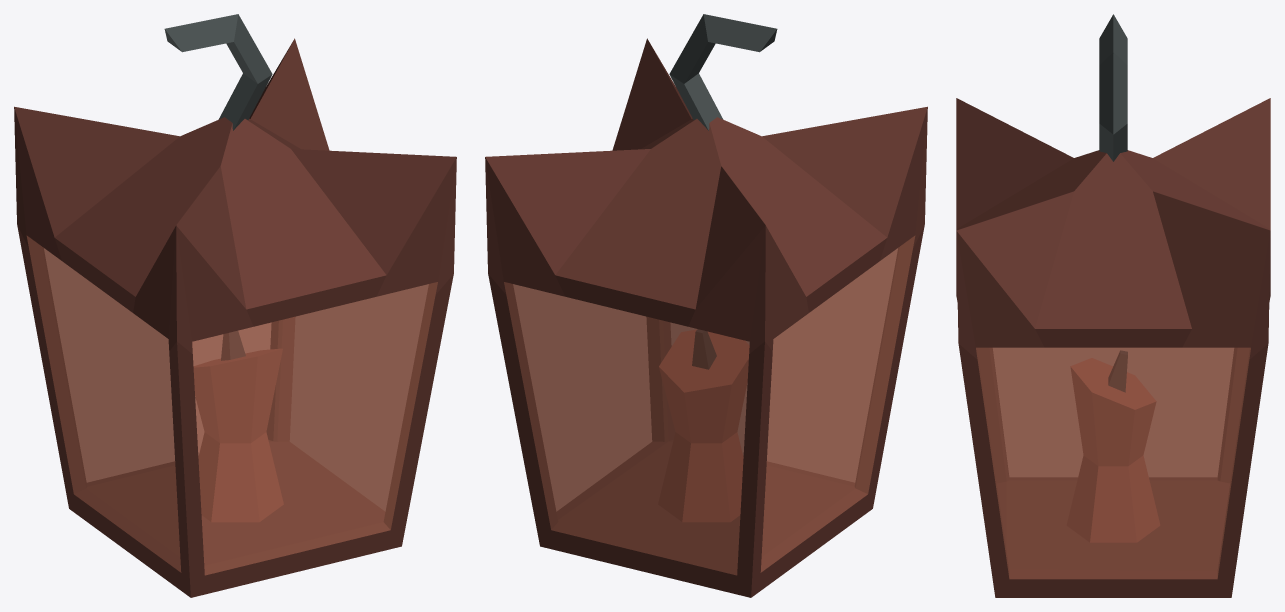
The model's file is Lamp_3_Red.fbx.
The picture shows the model from 3 angles, left to right: view 1: azimuth 30°, elevation 25°; view 2: azimuth 150°, elevation 25°; view 3: azimuth 270°, elevation 25°; orthographic projection. The views are drawn at different scales.
Visible parts, largest first — view 1: Lamp_3_Red_Part_1, Lamp_3_Red_Part_2, Lamp_3_Red_Part_3, Lamp_3_Red_Part_5; view 2: Lamp_3_Red_Part_1, Lamp_3_Red_Part_2, Lamp_3_Red_Part_3, Lamp_3_Red_Part_5, Lamp_3_Red_Part_4; view 3: Lamp_3_Red_Part_1, Lamp_3_Red_Part_2, Lamp_3_Red_Part_3, Lamp_3_Red_Part_5, Lamp_3_Red_Part_4.
Part boxes in pixels (bbox=[...]): Lamp_3_Red_Part_1: bbox=[14, 38, 456, 597]; Lamp_3_Red_Part_2: bbox=[26, 235, 437, 575]; Lamp_3_Red_Part_3: bbox=[194, 349, 283, 521]; Lamp_3_Red_Part_5: bbox=[164, 14, 272, 130]; Lamp_3_Red_Part_1: bbox=[485, 38, 927, 597]; Lamp_3_Red_Part_2: bbox=[504, 235, 915, 575]; Lamp_3_Red_Part_3: bbox=[658, 330, 749, 521]; Lamp_3_Red_Part_5: bbox=[669, 14, 777, 130]; Lamp_3_Red_Part_4: bbox=[692, 329, 716, 369]; Lamp_3_Red_Part_1: bbox=[956, 98, 1270, 597]; Lamp_3_Red_Part_2: bbox=[976, 347, 1250, 579]; Lamp_3_Red_Part_3: bbox=[1067, 358, 1159, 542]; Lamp_3_Red_Part_5: bbox=[1099, 14, 1127, 161]; Lamp_3_Red_Part_4: bbox=[1108, 350, 1127, 391].
Size of the model in its own units: 39.9 by 75.11 by 39.9.
